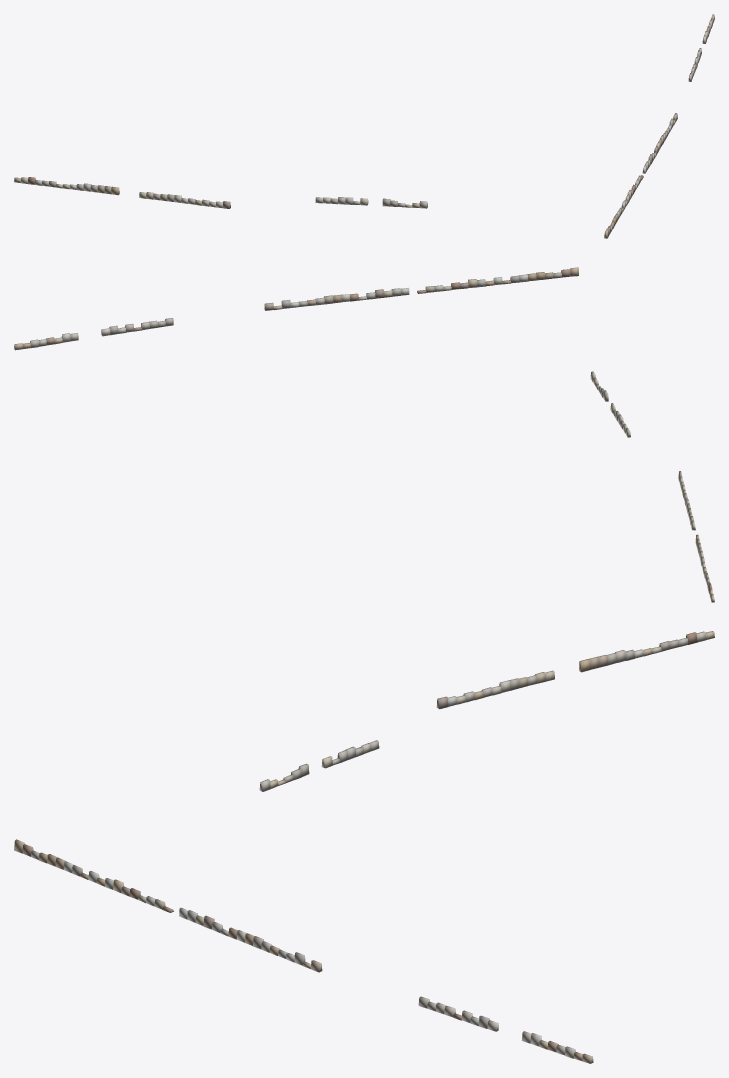
The model's file is farm_4_20_far.glb.
The picture shows the model from 3 angles, top to bottom: view 1: azimuth 30°, elevation 25°; view 2: azimuth 150°, elevation 25°; view 3: azimuth 270°, elevation 25°; orthographic projection. The views are drawn at different scales.
Parts seen in each view (by area): view 1: geometry_0; view 2: geometry_0; view 3: geometry_0.
Boxes of the visible parts, x1=… form: geometry_0: x1=14, y1=14, x2=714, y2=238; geometry_0: x1=14, y1=267, x2=714, y2=602; geometry_0: x1=14, y1=631, x2=714, y2=1063.
Bounding box in the file's own units: 156 × 8.84 × 97.28.
